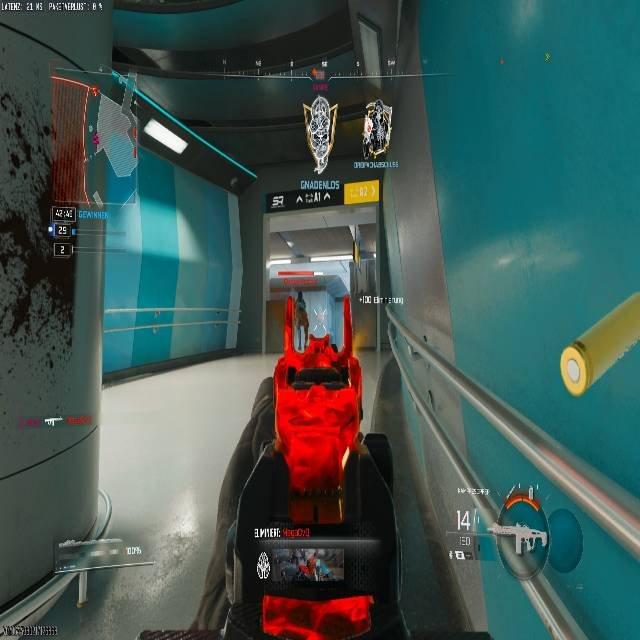player: (361, 101, 392, 155)
